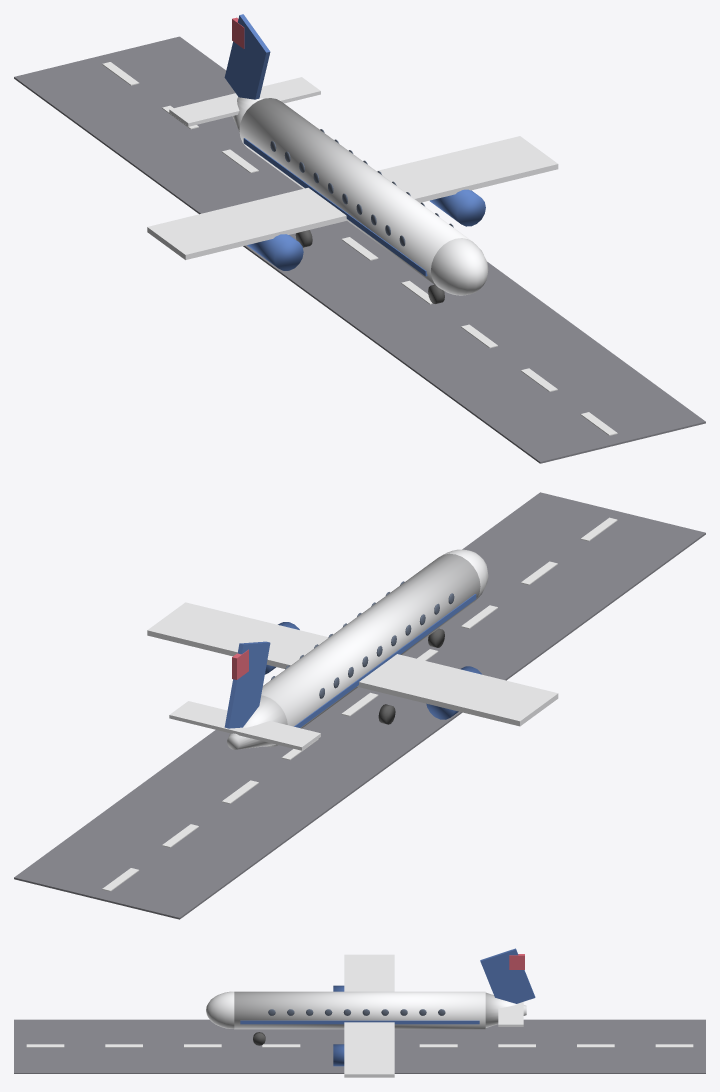
Rendered from airport.glb.
3 renders of one model, top to bottom at view 1: azimuth 30°, elevation 25°; view 2: azimuth 150°, elevation 25°; view 3: azimuth 270°, elevation 25°, orthographic. The views are drawn at different scales.
Parts seen in each view (by area): view 1: Runway, Wing, Fuselage, Nose, Stab, Fin, Engine1, Engine-1, Stripe; view 2: Runway, Wing, Fuselage, Stab, Fin, Tail, Stripe; view 3: Runway, Fuselage, Wing, Fin, Stripe, Nose, Tail, Stab, Engine1, FinRed.
Boxes of the visible parts, bbox=[...] form: Runway: bbox=[14, 36, 705, 463]; Wing: bbox=[147, 136, 558, 259]; Fuselage: bbox=[239, 98, 471, 286]; Nose: bbox=[431, 238, 488, 295]; Stab: bbox=[169, 77, 320, 126]; Fin: bbox=[224, 14, 270, 99]; Engine1: bbox=[430, 189, 485, 226]; Engine-1: bbox=[247, 234, 303, 270]; Stripe: bbox=[243, 138, 427, 276]; Runway: bbox=[14, 492, 705, 919]; Wing: bbox=[147, 602, 558, 726]; Fuselage: bbox=[261, 553, 480, 747]; Stab: bbox=[169, 701, 320, 750]; Fin: bbox=[224, 641, 270, 728]; Tail: bbox=[227, 695, 287, 749]; Stripe: bbox=[294, 594, 476, 727]; Runway: bbox=[14, 1019, 705, 1073]; Fuselage: bbox=[234, 991, 485, 1029]; Wing: bbox=[344, 954, 394, 1077]; Fin: bbox=[480, 948, 535, 1003]; Stripe: bbox=[240, 1020, 479, 1024]; Nose: bbox=[206, 991, 234, 1028]; Tail: bbox=[485, 992, 526, 1027]; Stab: bbox=[498, 1002, 523, 1026]; Engine1: bbox=[333, 1044, 344, 1066]; FinRed: bbox=[509, 954, 524, 969].
Bounding box in the file's own units: 9 × 3.45 × 22.
